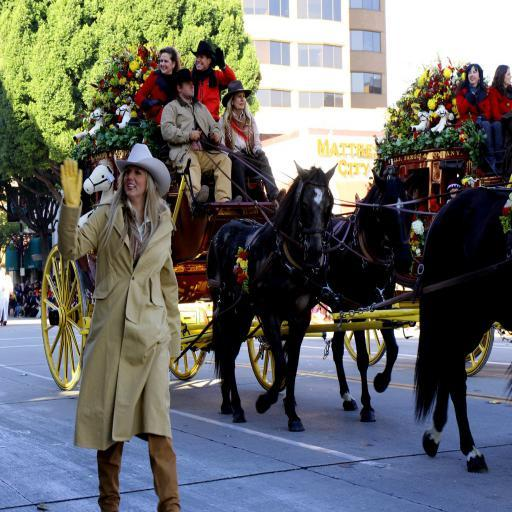Horse: (204, 155, 338, 433), (411, 185, 512, 475), (316, 169, 419, 423)
